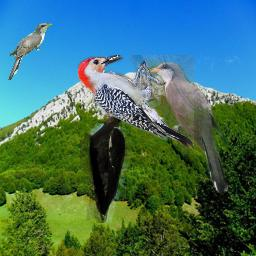Cuckoo: (145, 60, 231, 196), (8, 23, 52, 80)
Woodpecker: (78, 55, 194, 149), (80, 95, 161, 223)
